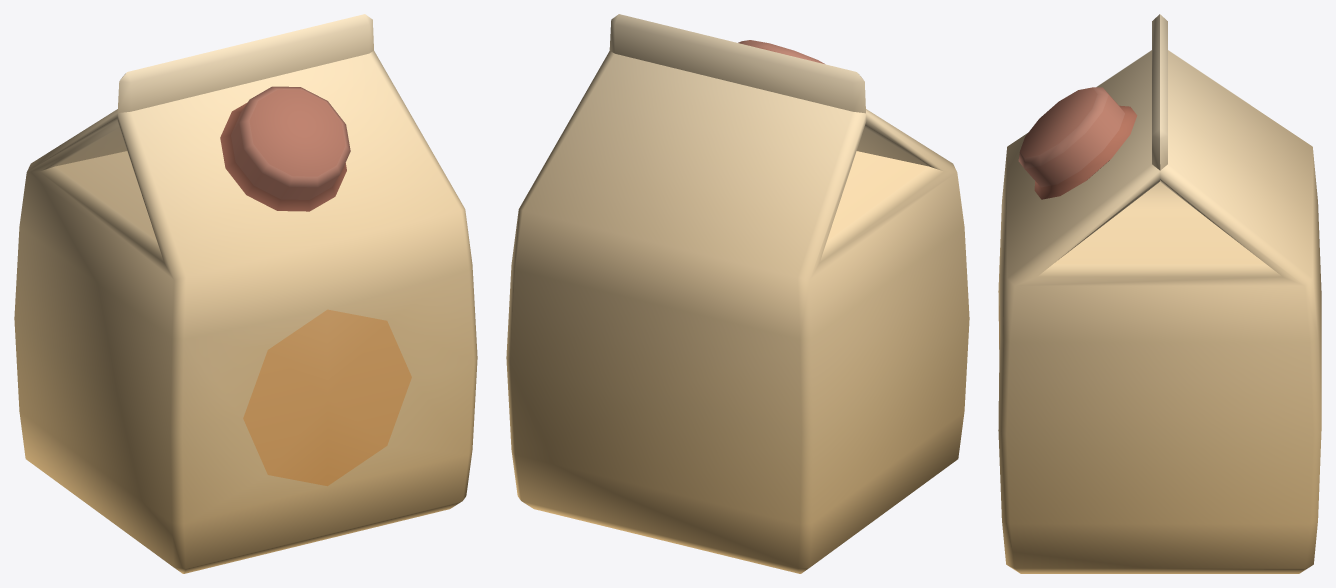
Rendered from kefir_003.fbx.
3 renders of one model, left to right at view 1: azimuth 30°, elevation 25°; view 2: azimuth 150°, elevation 25°; view 3: azimuth 270°, elevation 25°, orthographic.
Visible parts, largest first — view 1: kefir_003; view 2: kefir_003; view 3: kefir_003.
Part boxes in pixels (bbox=[...]): kefir_003: bbox=[14, 14, 477, 573]; kefir_003: bbox=[506, 14, 969, 573]; kefir_003: bbox=[998, 14, 1321, 573].
Bounding box in the file's own units: 7.57 × 7.02 × 10.52.
